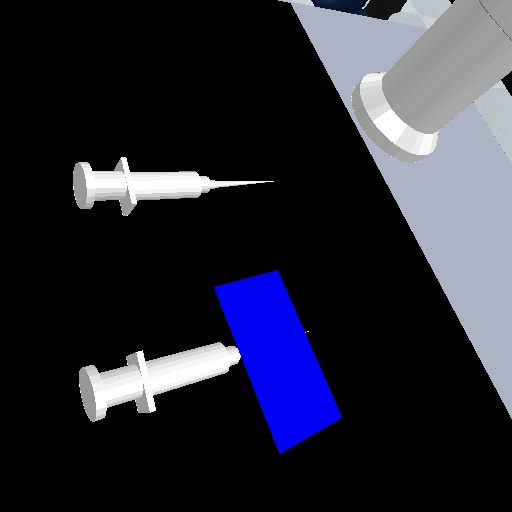jeringuilla: (68, 337, 244, 425), (63, 151, 279, 220)
